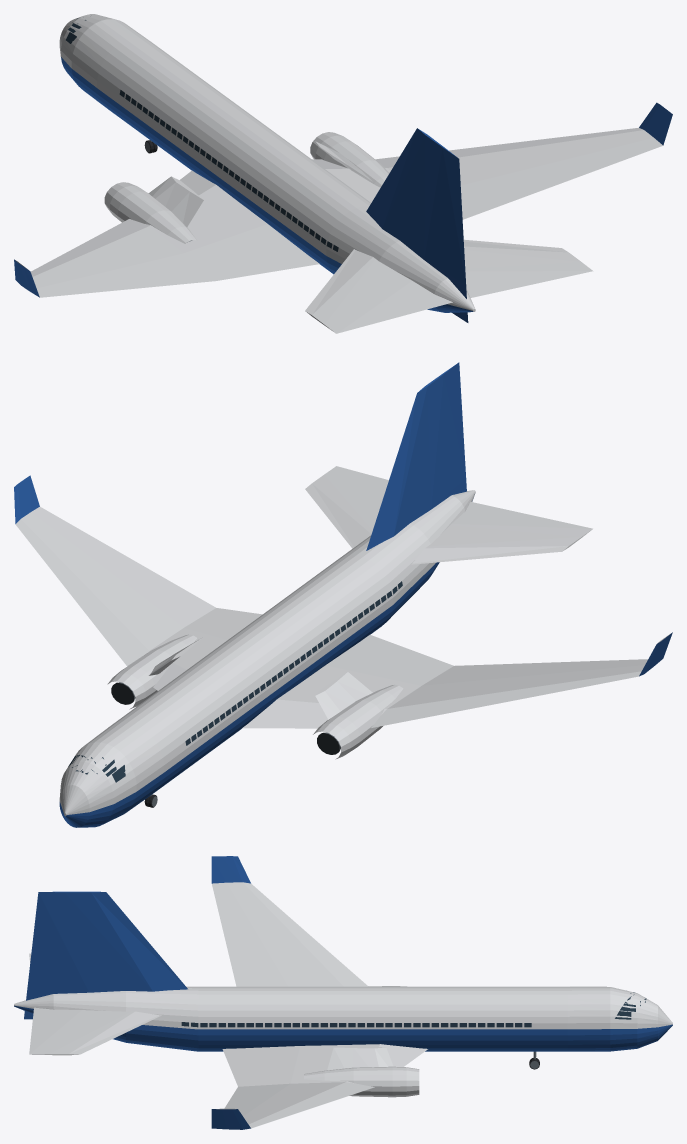
3 views of the same model, one above another, from view 1: azimuth 30°, elevation 25°; view 2: azimuth 150°, elevation 25°; view 3: azimuth 270°, elevation 25° (orthographic). The views are drawn at different scales.
Parts seen in each view (by area): view 1: airframe; view 2: airframe; view 3: airframe.
Part boxes in pixels (<box>): airframe: <box>14,14,672,333</box>; airframe: <box>14,362,672,827</box>; airframe: <box>14,856,672,1129</box>.
Bounding box in the file's own units: 35.79 × 11.66 × 39.47.
